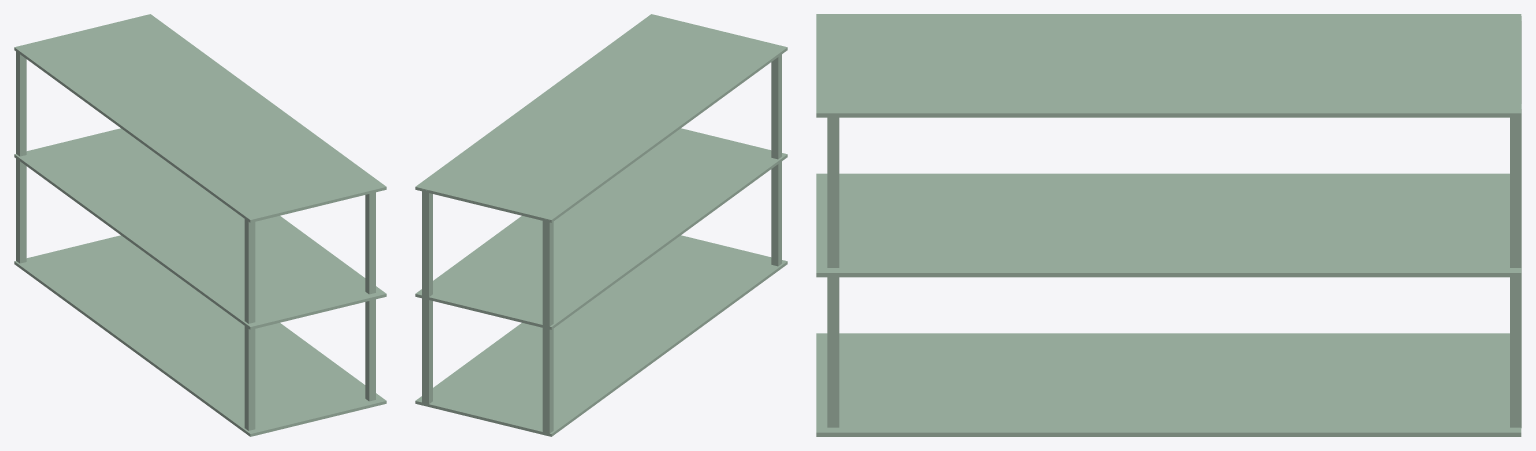
File: tana.glb
3 renders of one model, left to right at view 1: azimuth 30°, elevation 25°; view 2: azimuth 150°, elevation 25°; view 3: azimuth 270°, elevation 25°, orthographic. The views are drawn at different scales.
Parts seen in each view (by area): view 1: Cube.005; view 2: Cube.005; view 3: Cube.005.
Part boxes in pixels (x1=…): Cube.005: x1=14, y1=14, x2=386, y2=436; Cube.005: x1=415, y1=14, x2=787, y2=436; Cube.005: x1=816, y1=14, x2=1521, y2=436.
Bounding box in the file's own units: 2 × 3.04 × 6.
